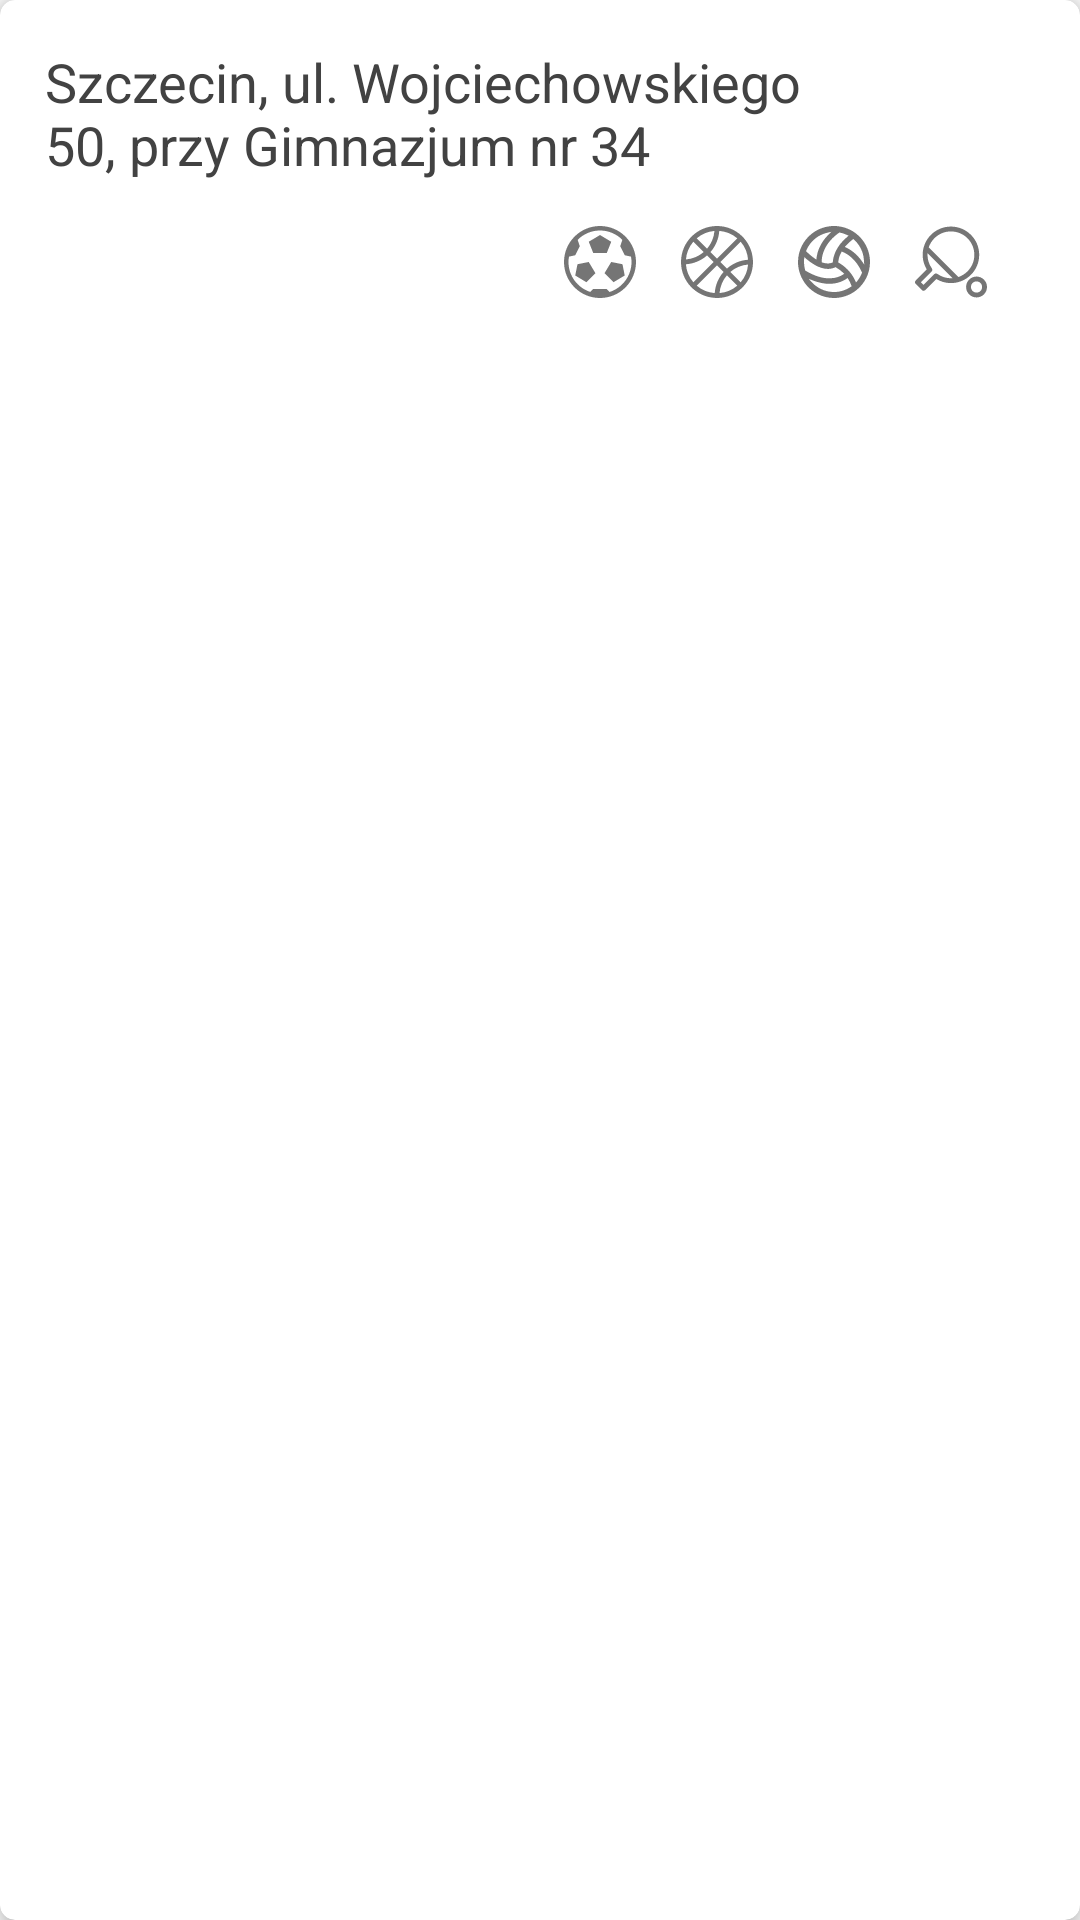

Icons on this 1080px×1920px Android screen, each with the point to tap as (x,y):
basketball: (717,262)
football: (600,262)
ping pong: (951,262)
volley ball: (834,262)
